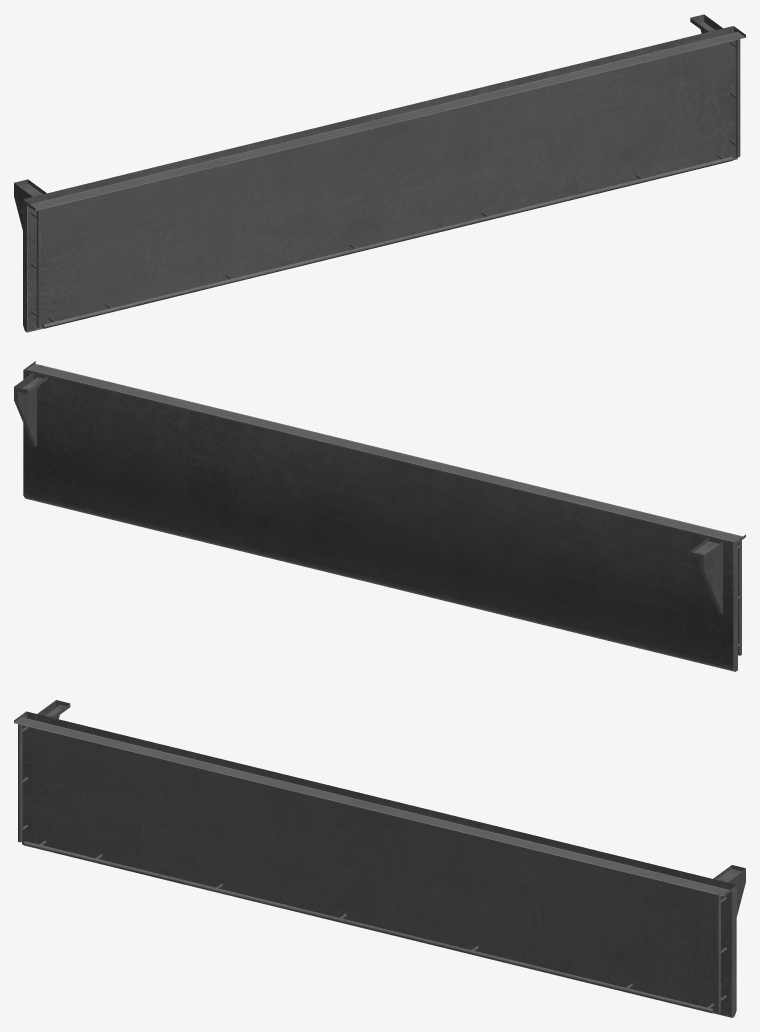
Rendered from paris_kitchen_shelf_short_LOD0.obj.
3 renders of one model, top to bottom at view 1: azimuth 30°, elevation 25°; view 2: azimuth 150°, elevation 25°; view 3: azimuth 330°, elevation 25°, orthographic.
Parts seen in each view (by area): view 1: mtl_paris_ktichen_shelf; view 2: mtl_paris_ktichen_shelf; view 3: mtl_paris_ktichen_shelf.
Part boxes in pixels (left/top/right/bottom): mtl_paris_ktichen_shelf: left=14, top=14, right=745, bottom=332; mtl_paris_ktichen_shelf: left=14, top=361, right=745, bottom=671; mtl_paris_ktichen_shelf: left=14, top=700, right=745, bottom=1017.
Bounding box in the file's own units: 348 × 60.96 × 26.9.
